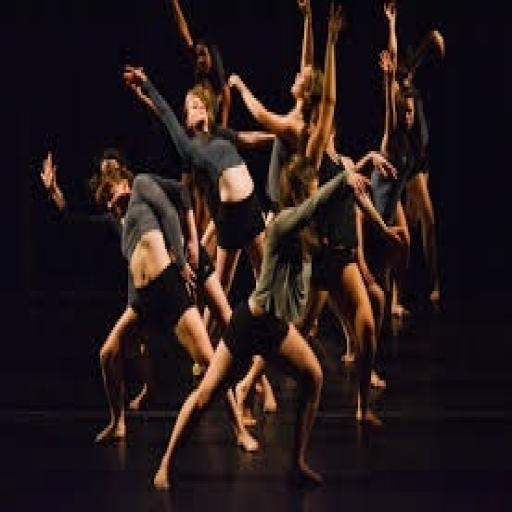dancing: (67, 44, 458, 512)
